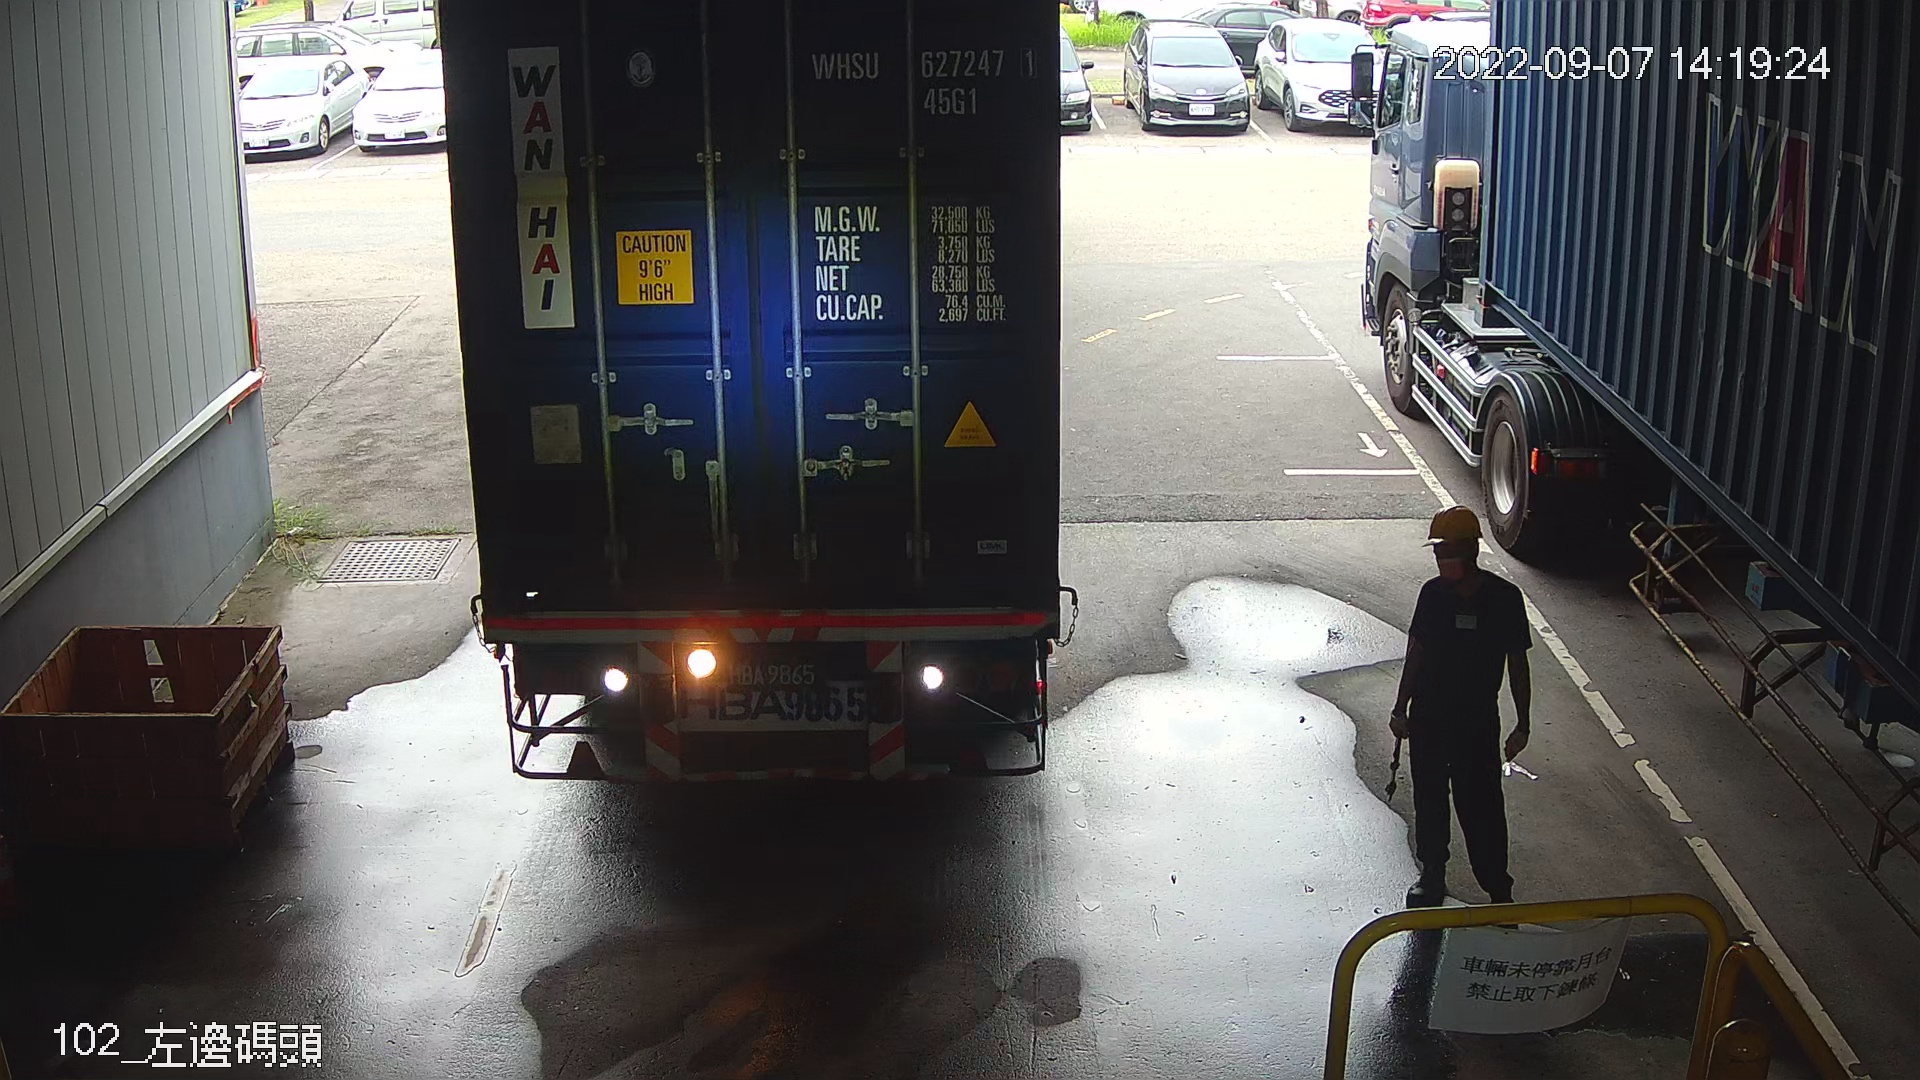container: (800, 38, 1047, 124)
